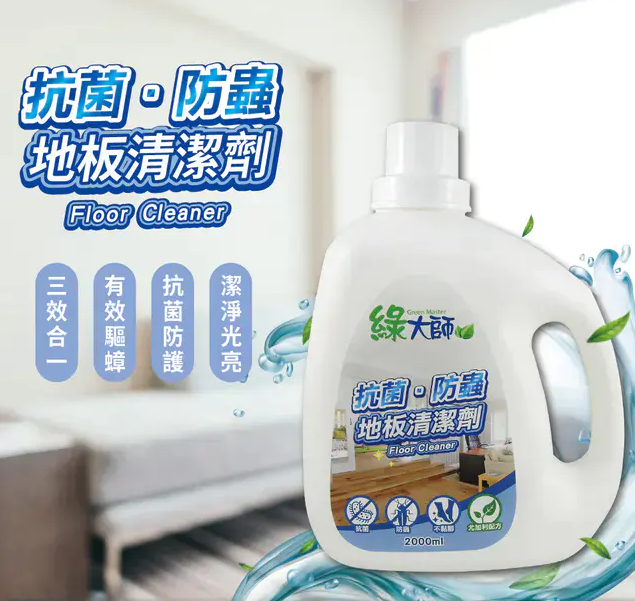cleaner: (278, 115, 631, 577)
